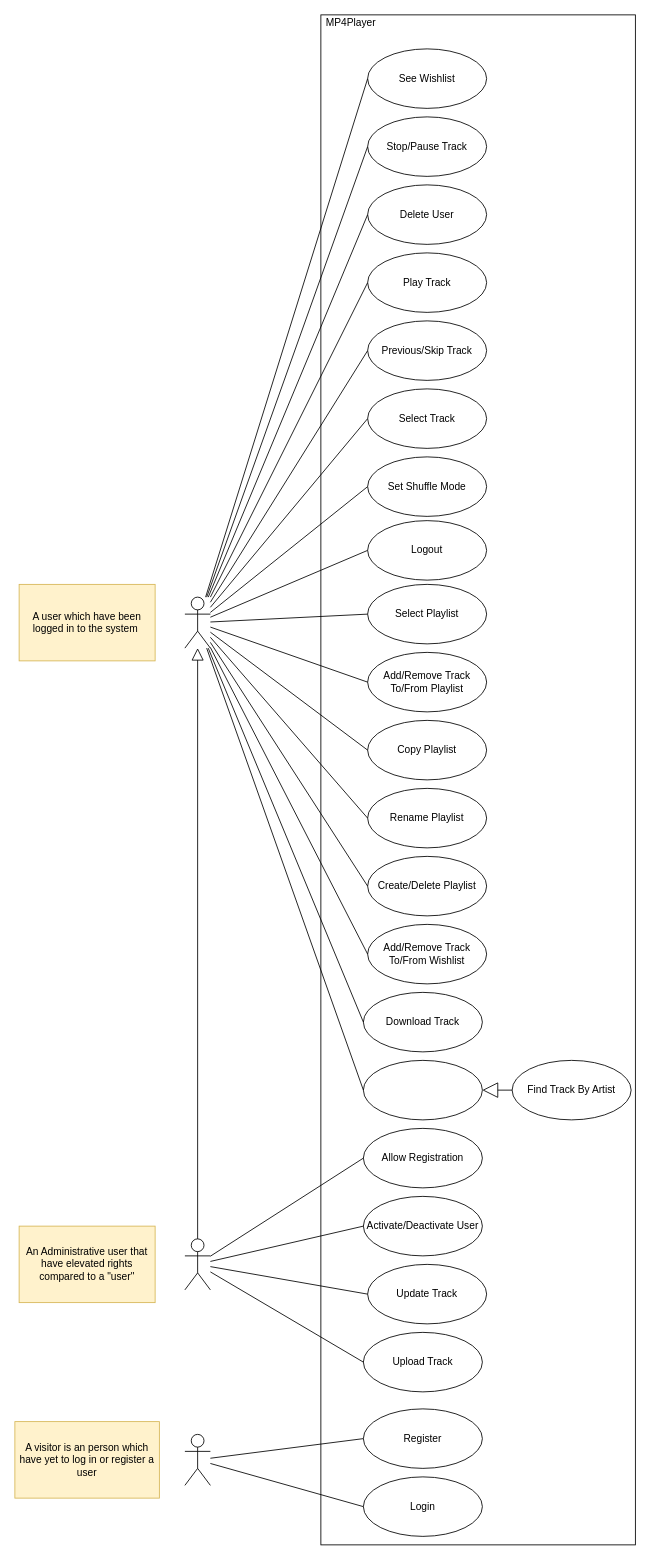
Image size: 650x1560. Some labels were removed from this diagram. Each missing label, with the centre of its shape:
"Administrator" belongs at (x=197, y=1264).
"Find Track" belongs at (x=422, y=1090).
"User" belongs at (x=197, y=622).
"Visitor" belongs at (x=197, y=1459).
